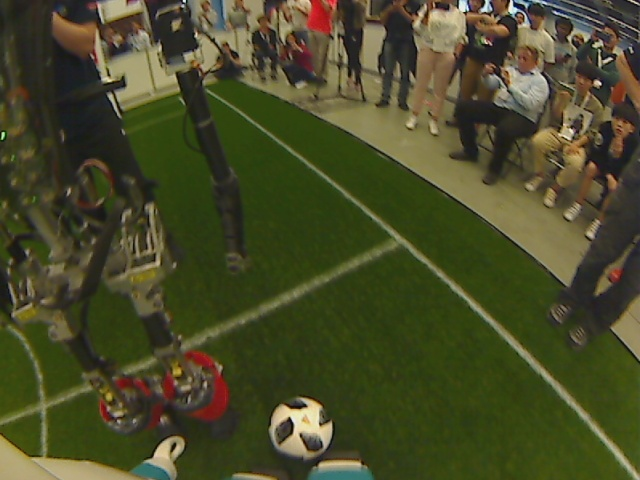ball: (268, 396, 331, 463)
